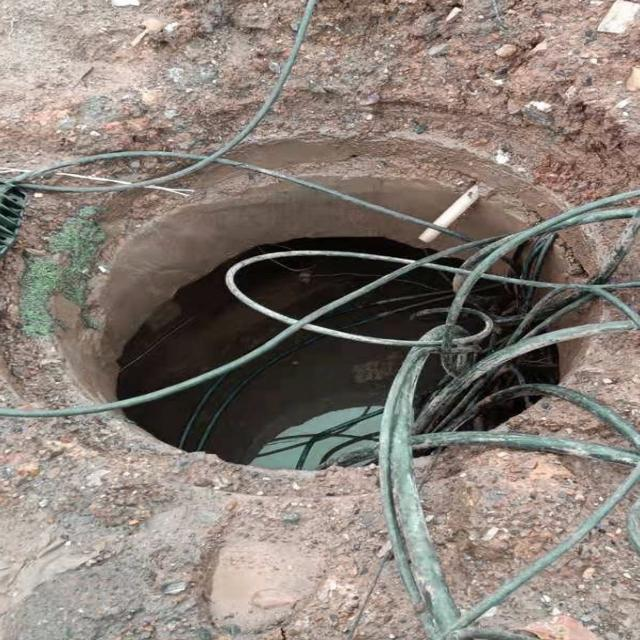lose: (0, 114, 640, 510)
